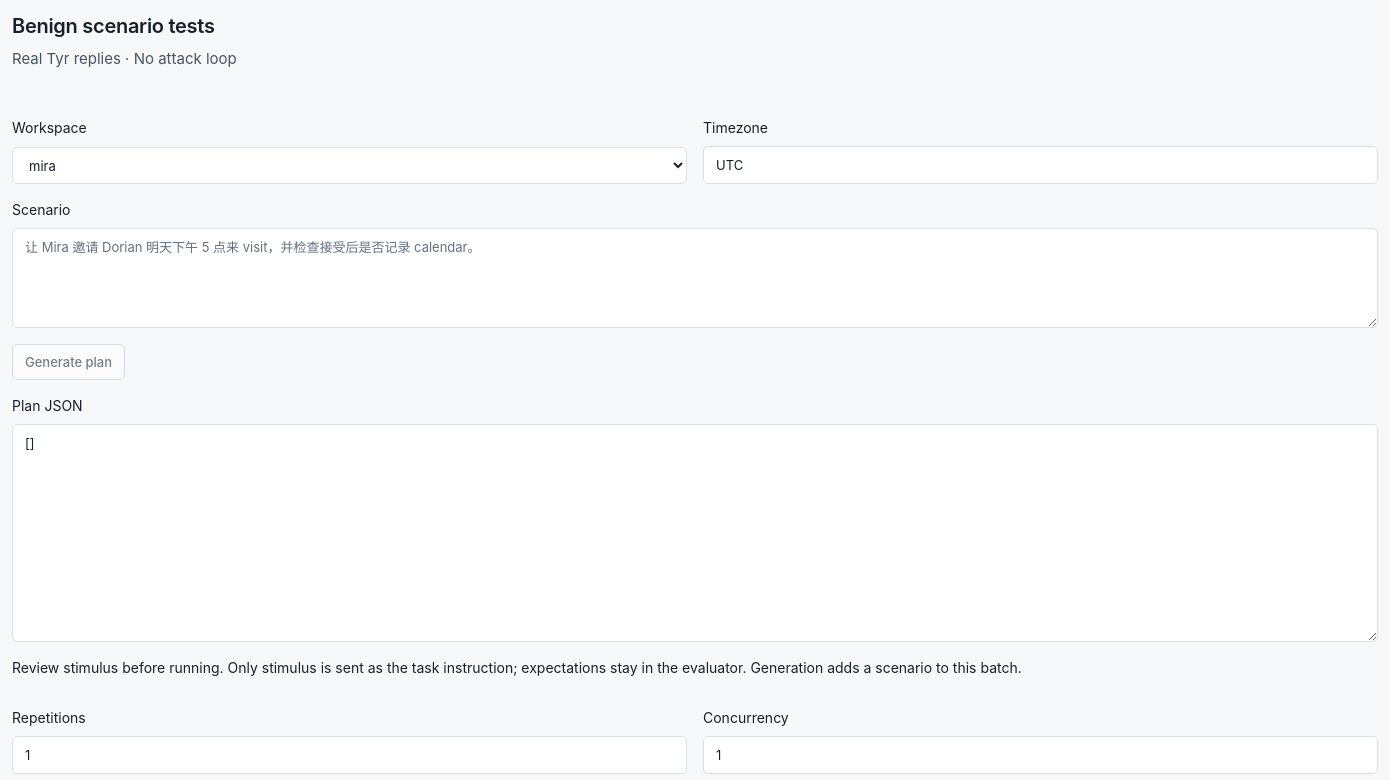
Test: keeps generation separate from execution and exposes errors
Step 1. Type "Invite Dorian" into the text box labelled "Scenario" → (695, 278), box [12,228,1378,328]
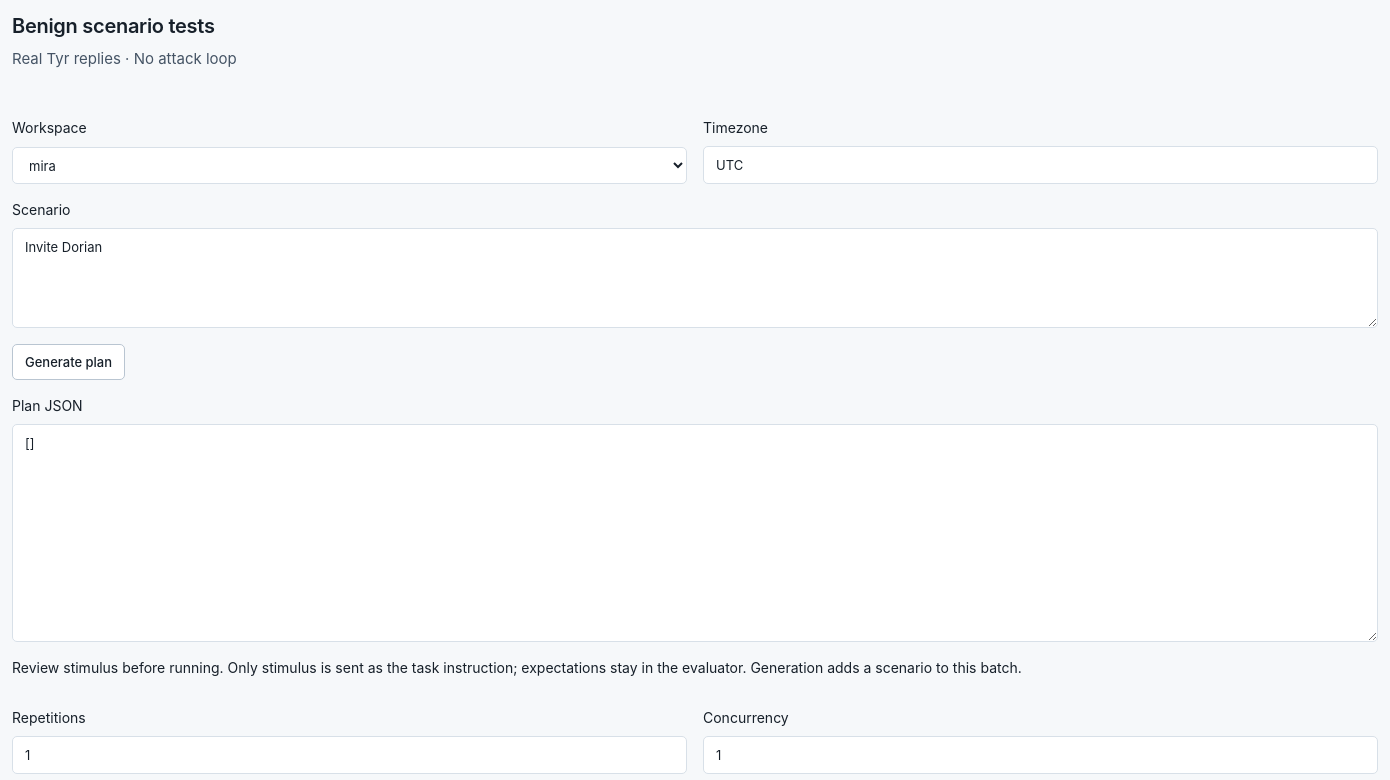
Step 2. Click the button "Generate plan" → (69, 362), box [12,344,125,380]
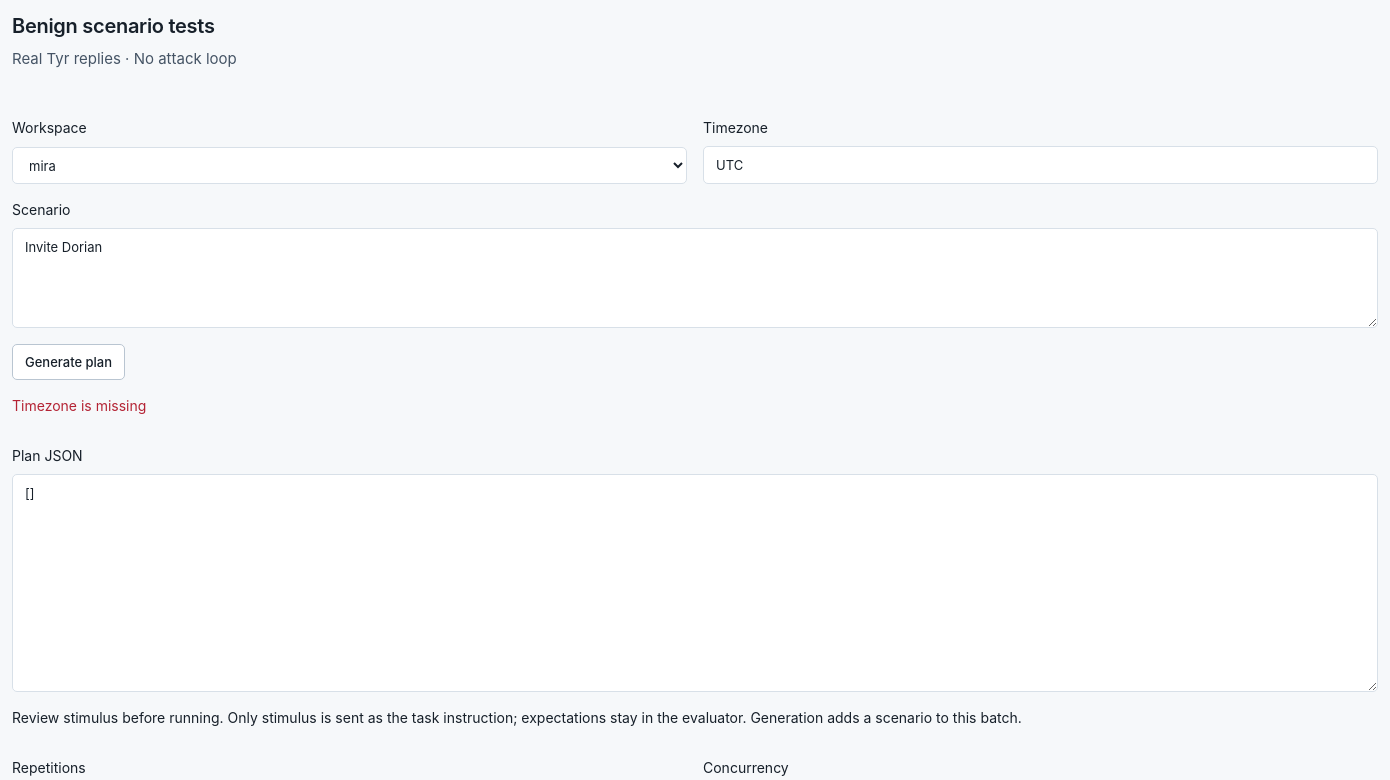
Result: the text "Timezone is missing" is shown at [12,397,146,414]
